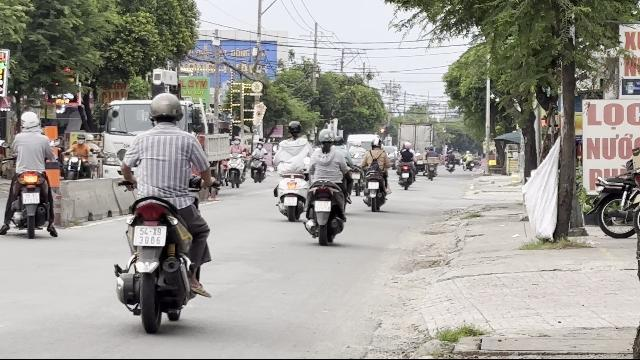helmet: (147, 92, 183, 126), (317, 128, 337, 150), (20, 111, 40, 131)
licenseplate: (134, 226, 166, 246), (314, 200, 332, 211), (22, 193, 40, 204)
motorcyclist: (112, 92, 216, 329), (0, 110, 60, 238), (304, 128, 352, 244)
